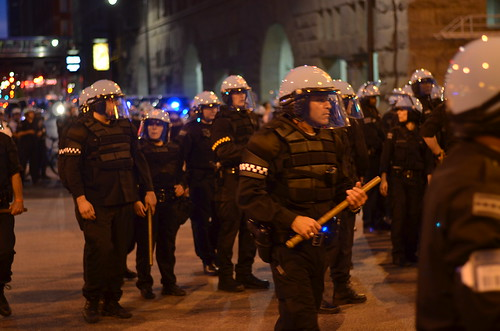building: (128, 1, 463, 98)
policeman: (247, 66, 356, 331), (56, 75, 137, 328), (216, 79, 271, 290), (372, 93, 430, 268), (136, 109, 184, 297), (183, 91, 231, 271)
